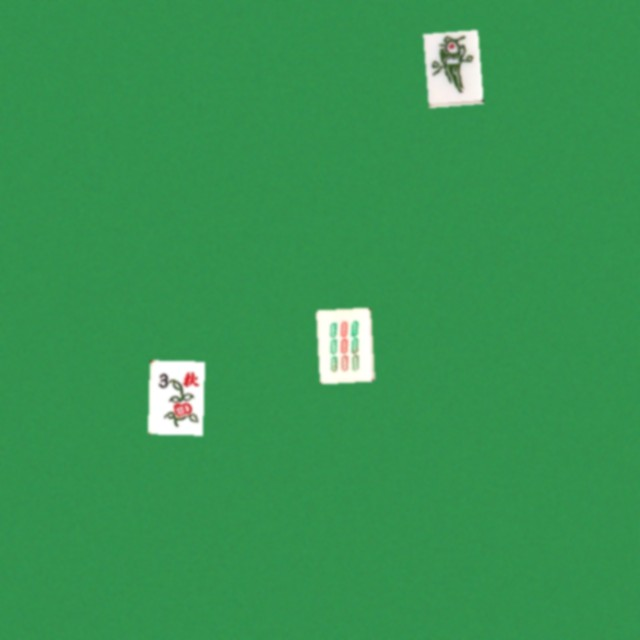tile: (315, 307, 370, 381), (147, 360, 202, 434), (423, 29, 478, 103)
